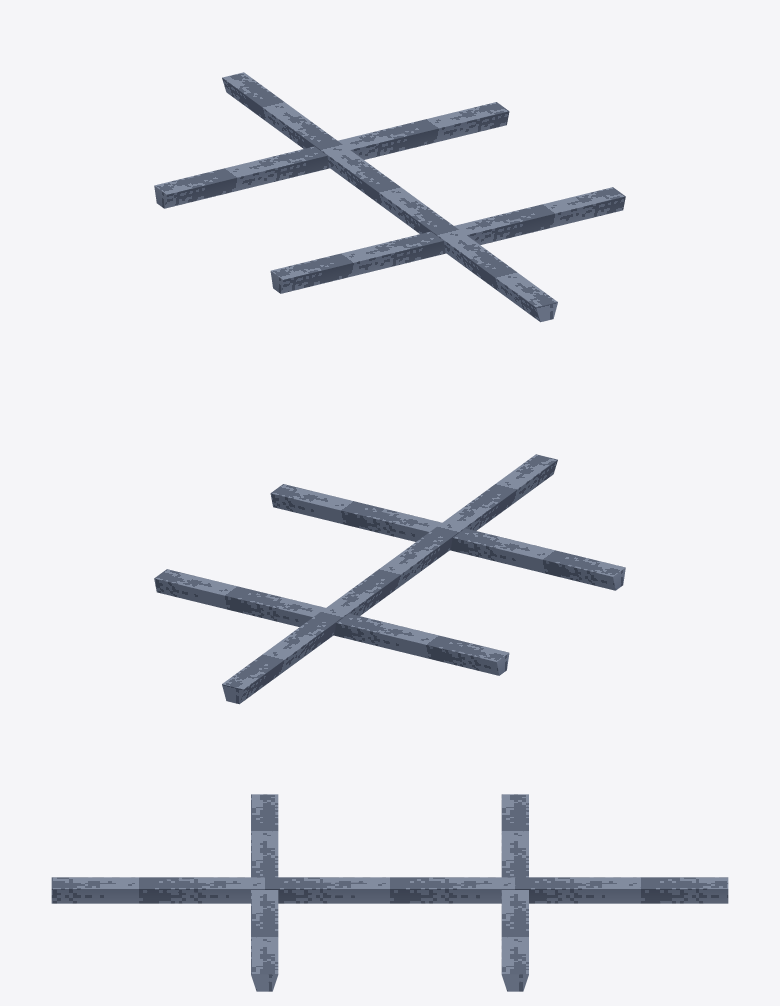
The model's file is stn.ceiling__c2x3.glb.
The picture shows the model from 3 angles, top to bottom: view 1: azimuth 30°, elevation 25°; view 2: azimuth 150°, elevation 25°; view 3: azimuth 270°, elevation 25°; orthographic projection. The views are drawn at different scales.
Parts seen in each view (by area): view 1: kit_beams; view 2: kit_beams; view 3: kit_beams.
Part boxes in pixels (<box>): kit_beams: <box>154,72,625,322</box>; kit_beams: <box>154,454,625,704</box>; kit_beams: <box>51,794,728,991</box>.
Bounding box in the file's own units: 8 × 0.32 × 12.
Materials: 3 (3 with a texture image).
